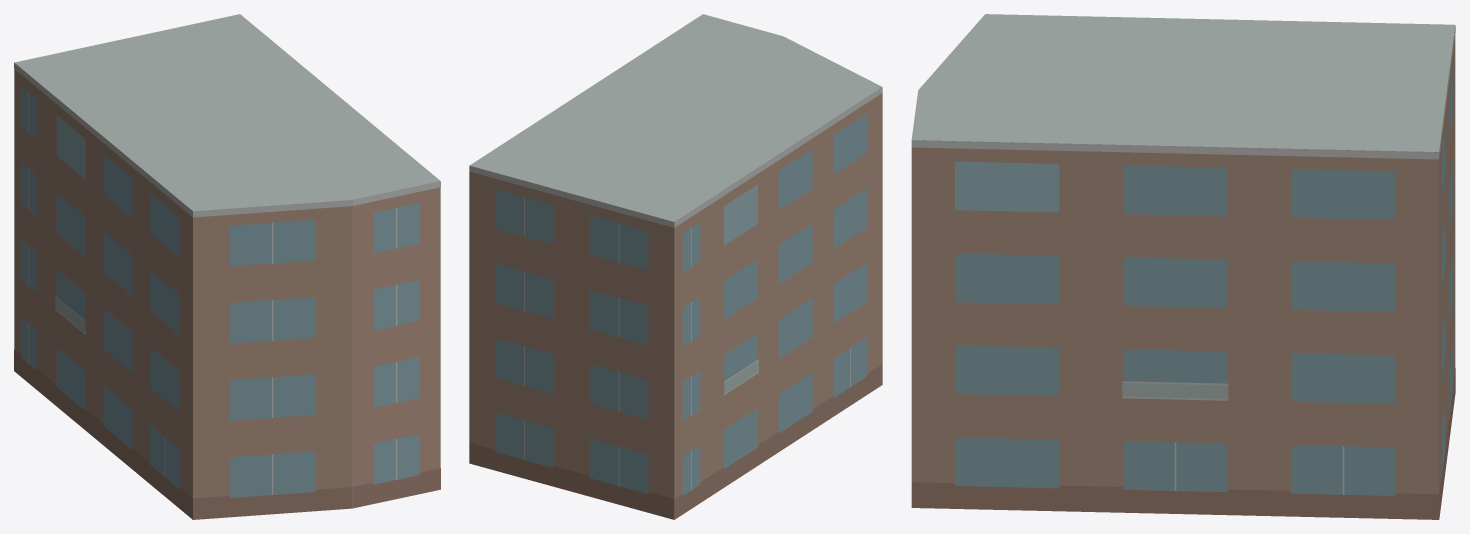
File: residential-ca219868-6f87-44cf-83d0-850fe4ed17a9.glb
3 renders of one model, left to right at view 1: azimuth 30°, elevation 25°; view 2: azimuth 150°, elevation 25°; view 3: azimuth 270°, elevation 25°, orthographic. The views are drawn at different scales.
Visible parts, largest first — view 1: residential-ca219868-6f87-44cf-83d0-850fe4ed17a9.tmp; view 2: residential-ca219868-6f87-44cf-83d0-850fe4ed17a9.tmp; view 3: residential-ca219868-6f87-44cf-83d0-850fe4ed17a9.tmp.
Boxes of the visible parts, <box> form: residential-ca219868-6f87-44cf-83d0-850fe4ed17a9.tmp: <box>14,14,440,519</box>; residential-ca219868-6f87-44cf-83d0-850fe4ed17a9.tmp: <box>469,14,882,519</box>; residential-ca219868-6f87-44cf-83d0-850fe4ed17a9.tmp: <box>911,14,1455,519</box>.
Bounding box in the file's own units: 9.84 × 12.2 × 16.36.
